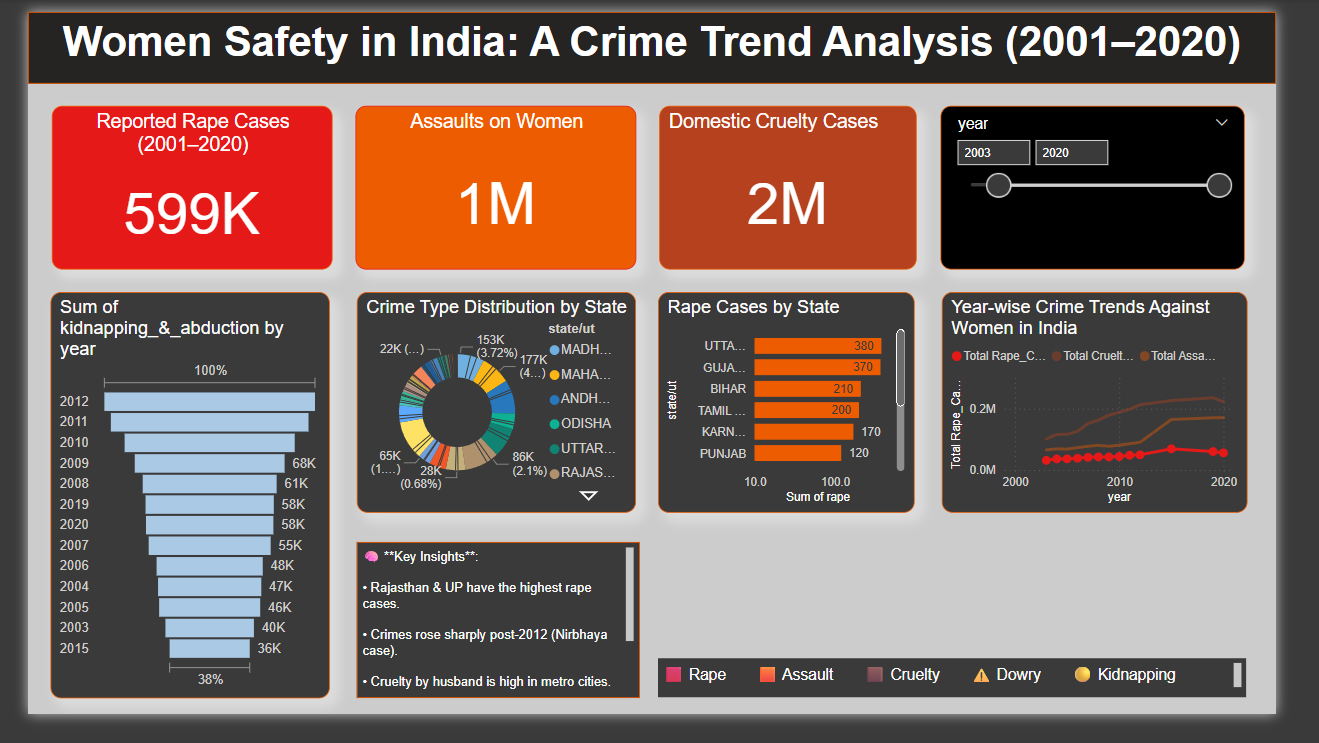

This screenshot's page, from the dashboard's own definition file:
{"tool":"powerbi","page":{"name":"Page 1","canvas":[1280,720],"ordinal":0},"visuals":[{"type":"textbox","box":[0,0,1280,73.3],"z":0},{"type":"card","title":"Reported Rape Cases (2001–2020)","fields":{"Values":["cleaned_women_crime_dataset.Total Rape_Cases"]},"box":[24,96,288,168],"z":1000},{"type":"card","title":"Assaults on Women","fields":{"Values":["cleaned_women_crime_dataset.Total Assault Cases"]},"box":[336,96,288,168],"z":2000},{"type":"card","title":"Domestic Cruelty Cases","fields":{"Values":["Sum(cleaned_women_crime_dataset.cruelty by husband)"]},"box":[648,96,264,168],"z":3000},{"type":"lineChart","title":"Year-wise Crime Trends Against Women in India","fields":{"Category":["cleaned_women_crime_dataset.year"],"Y":["cleaned_women_crime_dataset.Total Rape_Cases","cleaned_women_crime_dataset.Total Cruelty Cases","cleaned_women_crime_dataset.Total Assault Cases"]},"box":[936.7,286.7,313.3,226.7],"z":4000},{"type":"clusteredBarChart","title":"Rape Cases by State","fields":{"Category":["cleaned_women_crime_dataset.state/ut"],"Y":["Sum(cleaned_women_crime_dataset.rape)"]},"box":[646.7,286.7,263.3,226.7],"z":5000},{"type":"slicer","fields":{"Values":["cleaned_women_crime_dataset.year"]},"box":[936,96,312,168],"z":6000},{"type":"donutChart","title":"Crime Type Distribution by State","fields":{"Category":["cleaned_women_crime_dataset.state/ut"],"Y":["Sum(cleaned_women_crime_dataset.assault on women)","Sum(cleaned_women_crime_dataset.rape)","Sum(cleaned_women_crime_dataset.cruelty by husband)"]},"box":[336.7,286.7,286.7,226.7],"z":7000},{"type":"funnel","fields":{"Category":["cleaned_women_crime_dataset.year"],"Y":["Sum(cleaned_women_crime_dataset.kidnapping_&_abduction)"]},"box":[23.3,286.7,286.7,416.7],"z":8000},{"type":"textbox","box":[336.7,543.3,290,160],"z":9000},{"type":"textbox","box":[646.7,663.3,603.3,40],"z":10000}]}

Visuals, with their boxes in screenshot pixels (x1, y1, x2, y2), scaled from the page's 1280x720 canvas onto the 1319x743 screenshot:
textbox: rect(0, 0, 1318, 76)
"Reported Rape Cases (2001–2020)" card: rect(25, 99, 322, 272)
"Assaults on Women" card: rect(346, 99, 643, 272)
"Domestic Cruelty Cases" card: rect(668, 99, 940, 272)
"Year-wise Crime Trends Against Women in India" lineChart: rect(965, 296, 1288, 530)
"Rape Cases by State" clusteredBarChart: rect(666, 296, 938, 530)
slicer - cleaned_women_crime_dataset.year: rect(965, 99, 1286, 272)
"Crime Type Distribution by State" donutChart: rect(347, 296, 642, 530)
funnel - cleaned_women_crime_dataset.year x Sum(cleaned_women_crime_dataset.kidnapping_&_abduction): rect(24, 296, 319, 726)
textbox: rect(347, 561, 646, 726)
textbox: rect(666, 684, 1288, 726)
